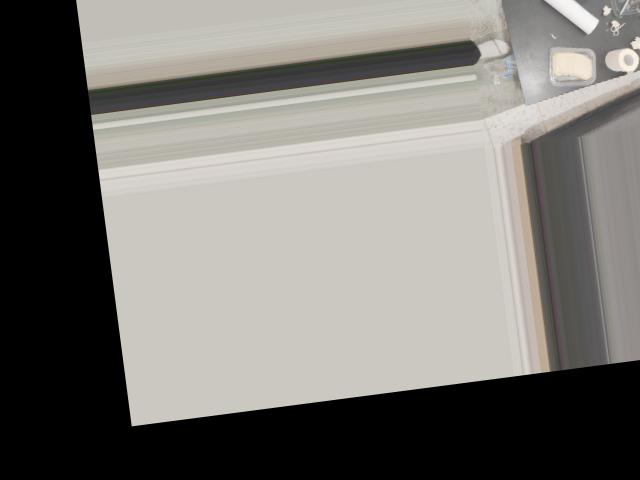cheese: (540, 40, 600, 92)
